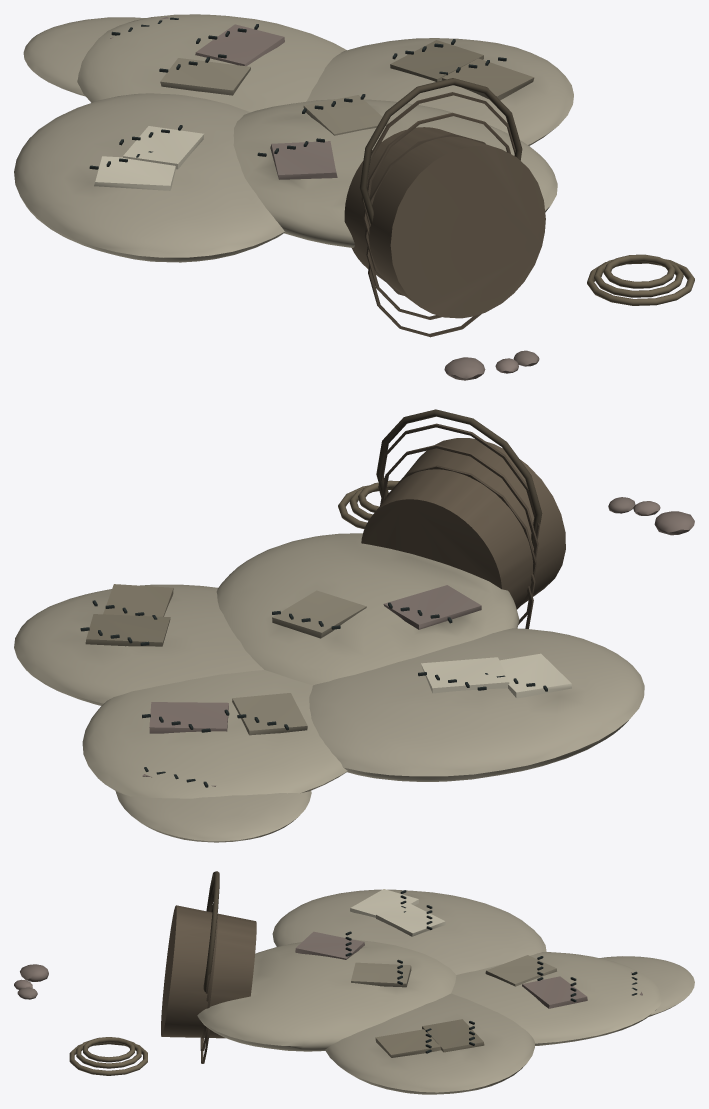
File: balloon_basket_wreck_b_lod1.glb
3 views of the same model, one above another, from view 1: azimuth 30°, elevation 25°; view 2: azimuth 150°, elevation 25°; view 3: azimuth 270°, elevation 25° (orthographic). The views are drawn at different scales.
Visible parts, largest first — view 1: Surface.001; view 2: Surface.001; view 3: Surface.001.
Boxes of the visible parts, x1,y1,x2,y2 form: Surface.001: [14, 14, 694, 380]; Surface.001: [14, 409, 694, 842]; Surface.001: [14, 871, 694, 1094].
Size of the model in its own units: 7.45 by 3.18 by 10.87.
